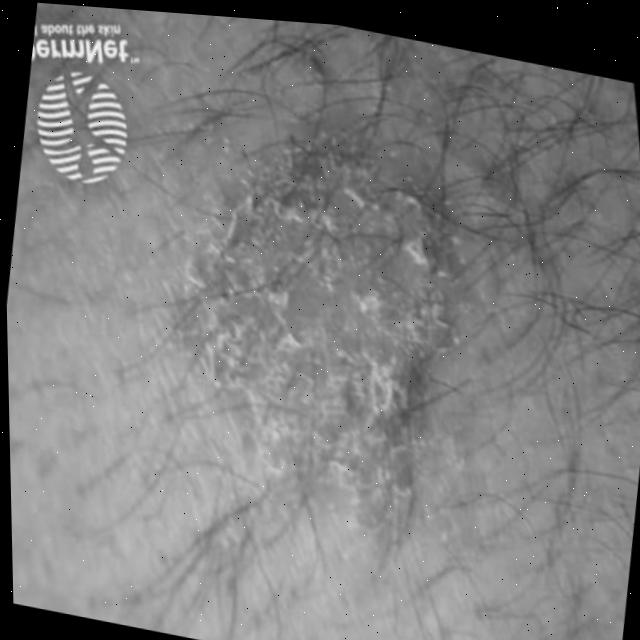Eczema: (198, 100, 456, 463)
